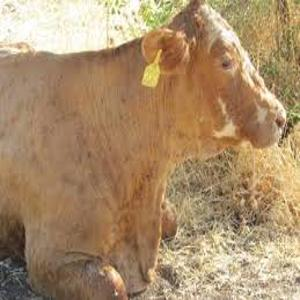lumpy skin diesease: (0, 0, 287, 299)
